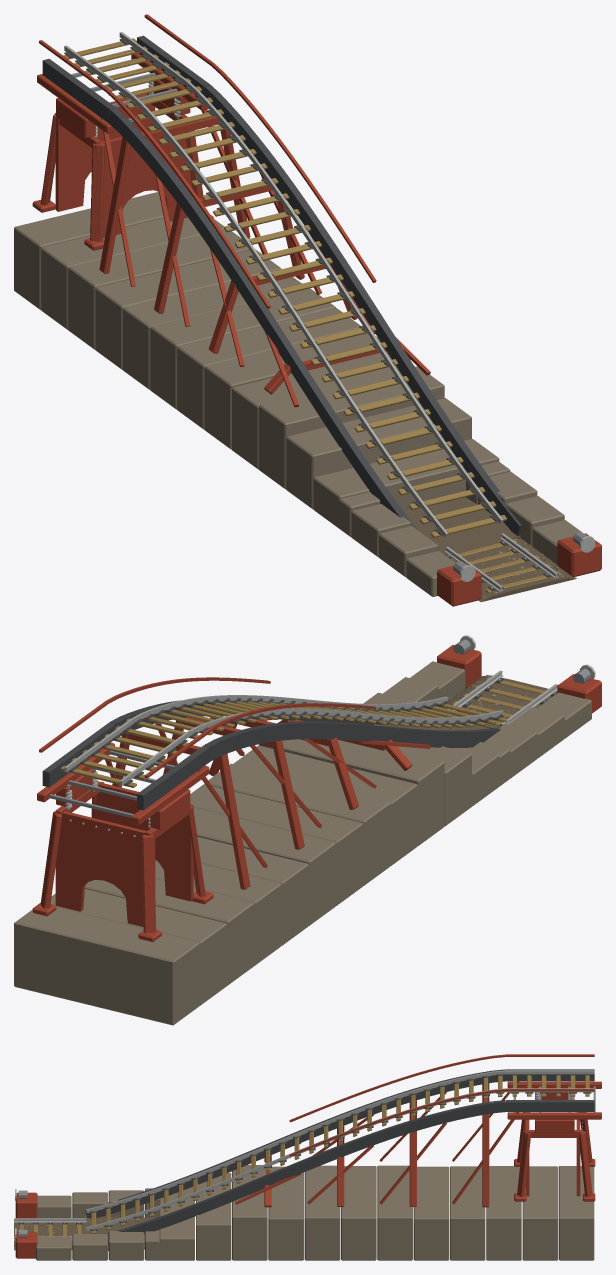
File: rail-ramp.glb
3 views of the same model, one above another, from view 1: azimuth 30°, elevation 25°; view 2: azimuth 150°, elevation 25°; view 3: azimuth 270°, elevation 25° (orthographic). The views are drawn at different scales.
Visible parts, largest first — view 1: body; view 2: body; view 3: body.
Boxes of the visible parts, bbox=[...] form: body: bbox=[14, 14, 601, 606]; body: bbox=[14, 635, 601, 1025]; body: bbox=[14, 1054, 601, 1260].
Size of the model in its own units: 3.4 by 4.95 by 16.2.
